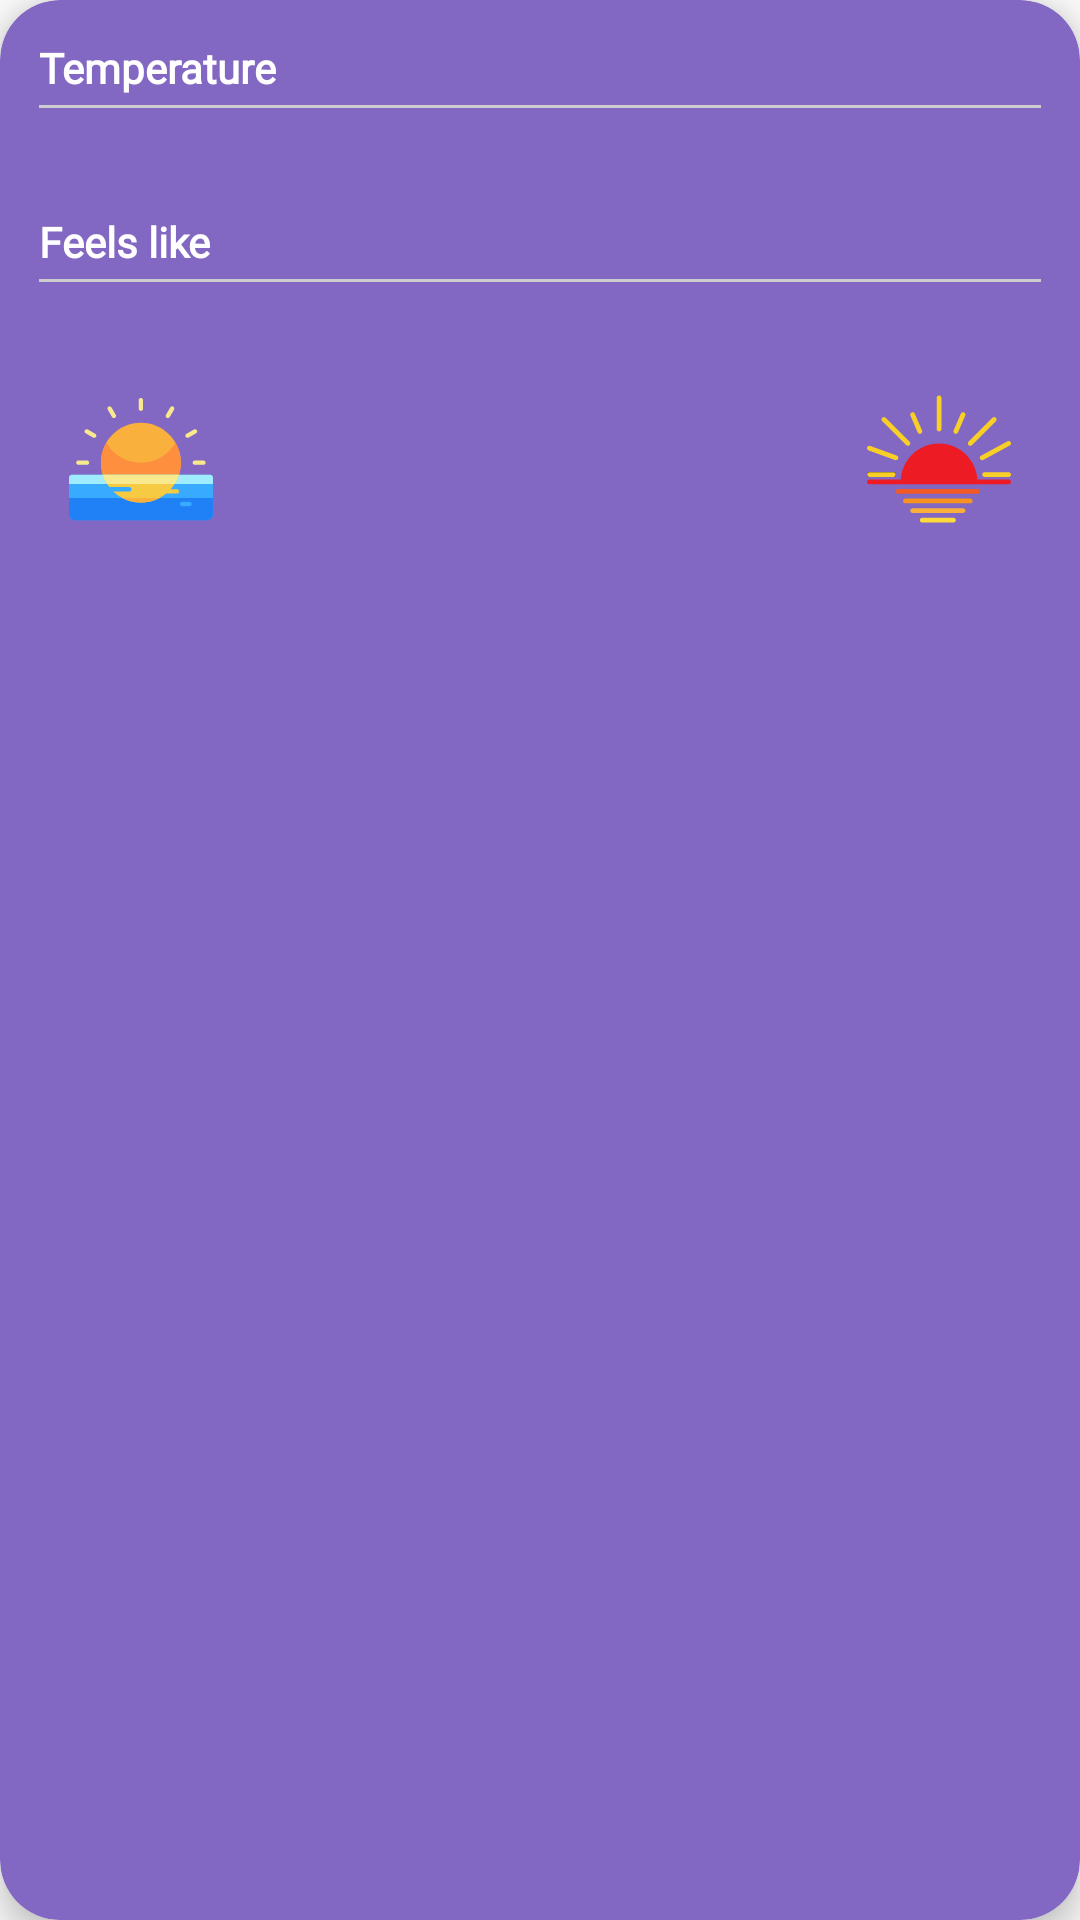

Where icons sit on this 1080x1920 app screen, as bbox=(x1, y1, x2, y2):
sunrise: bbox=(69, 398, 213, 521)
sunset: bbox=(867, 395, 1011, 523)
